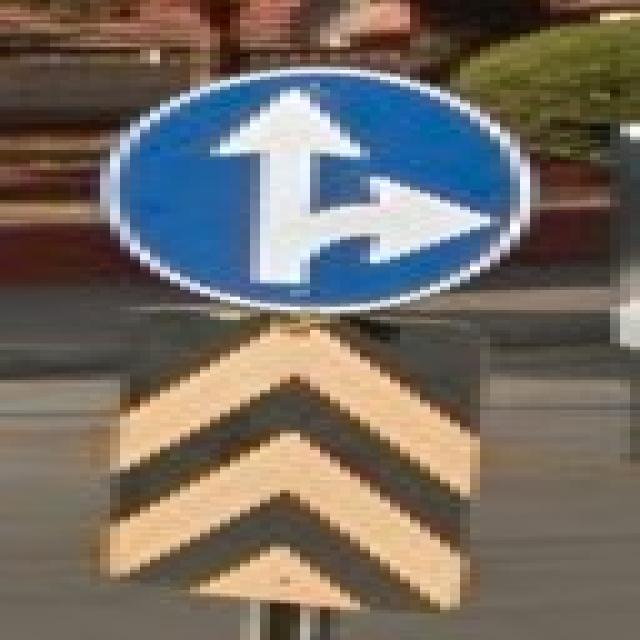Straight or Right: (101, 68, 521, 314)
